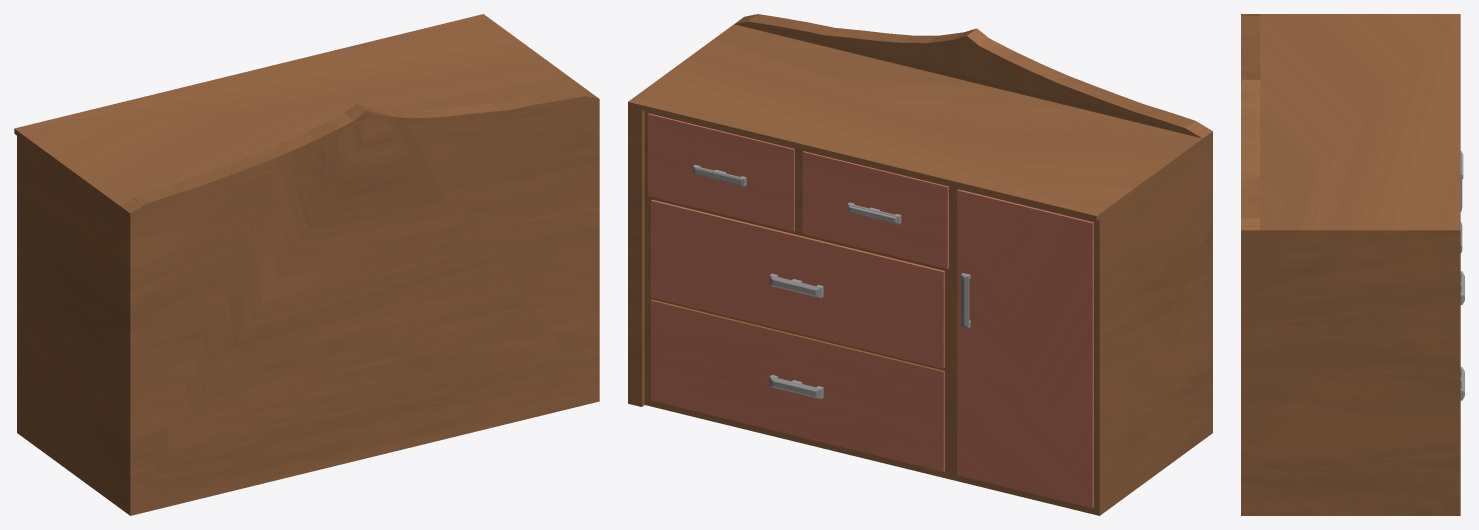
The model's file is Comoda.fbx.
3 views of the same model, side by side, from view 1: azimuth 30°, elevation 25°; view 2: azimuth 150°, elevation 25°; view 3: azimuth 270°, elevation 25° (orthographic). The views are drawn at different scales.
Visible parts, largest first — view 1: Cube; view 2: Cube; view 3: Cube.
Boxes of the visible parts, left/top/right/bottom form: Cube: left=14, top=14, right=599, bottom=515; Cube: left=628, top=14, right=1212, bottom=515; Cube: left=1241, top=14, right=1464, bottom=515.
Size of the model in its own units: 427 by 186 by 302.
